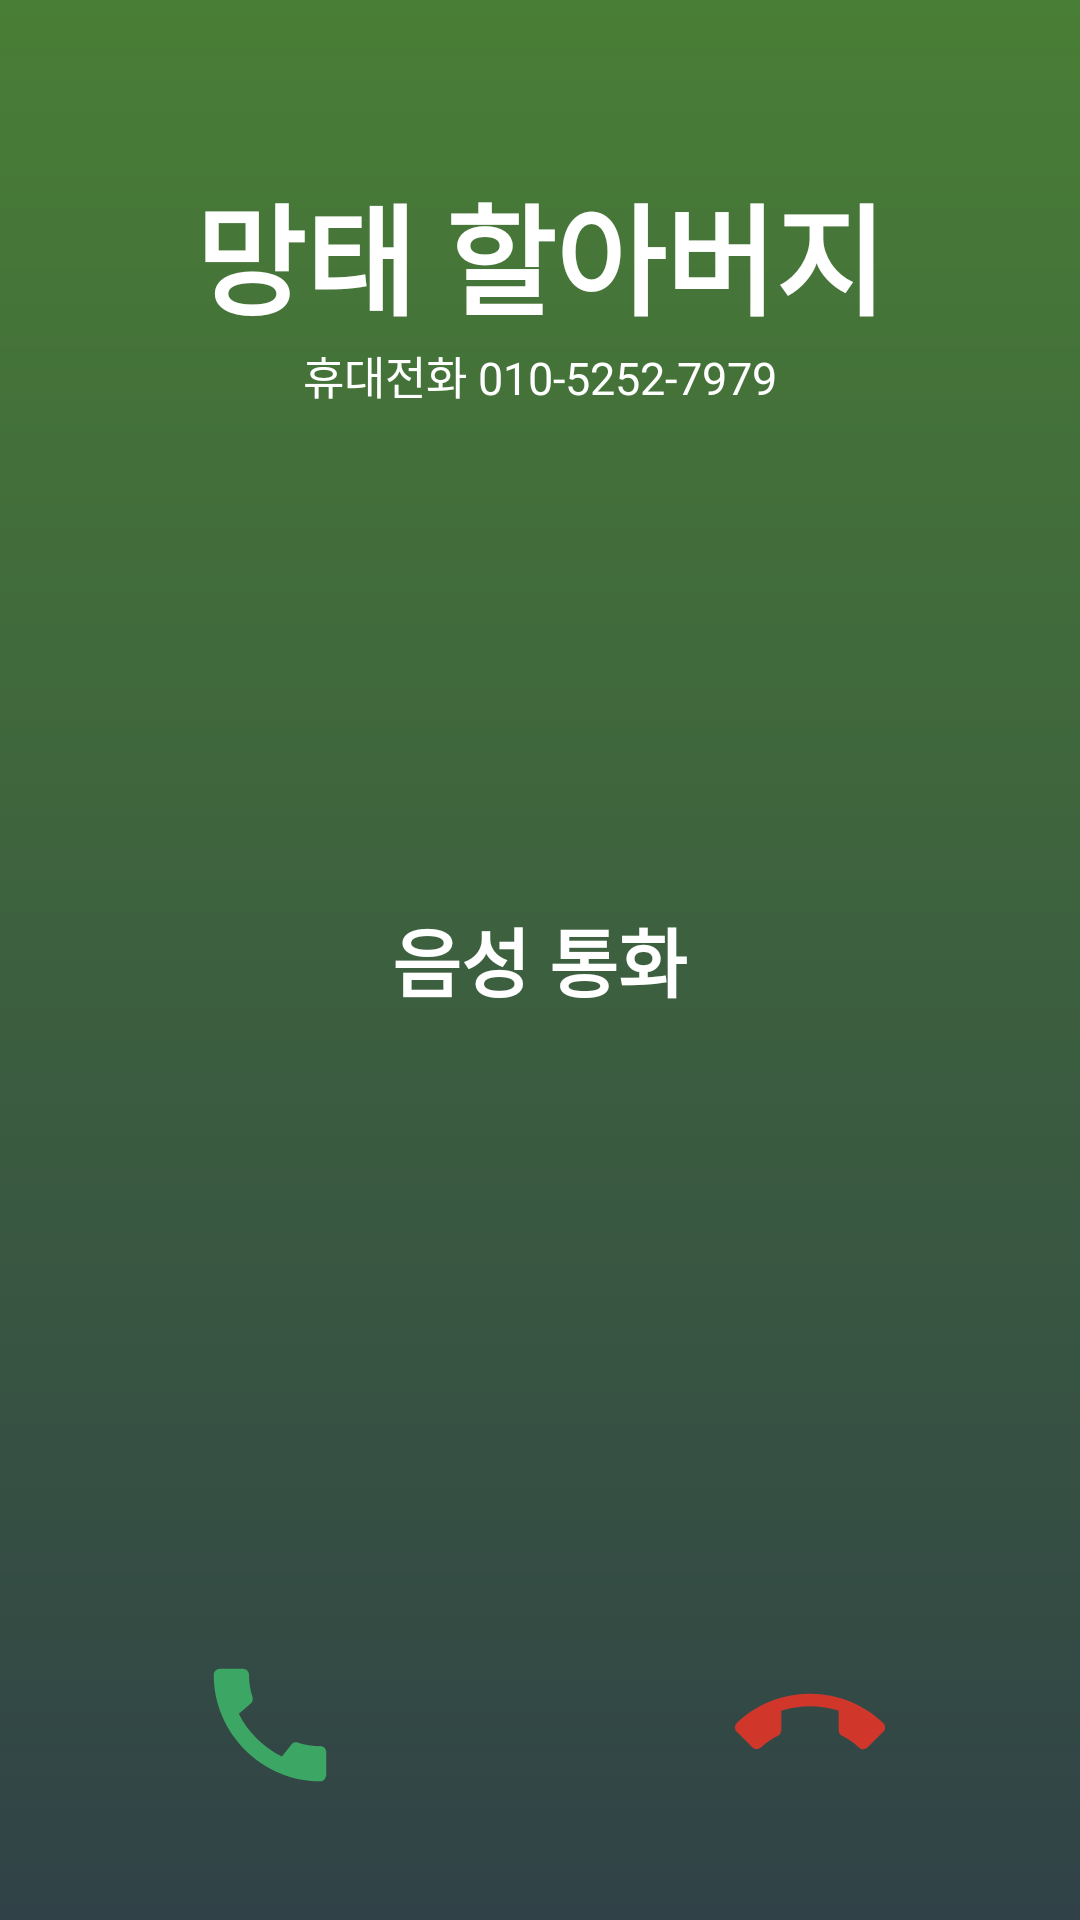

Icon click points for this 1080px x 1920px phone screenshot, format point (x, y):
call: point (270, 1725)
call end: point (810, 1721)
